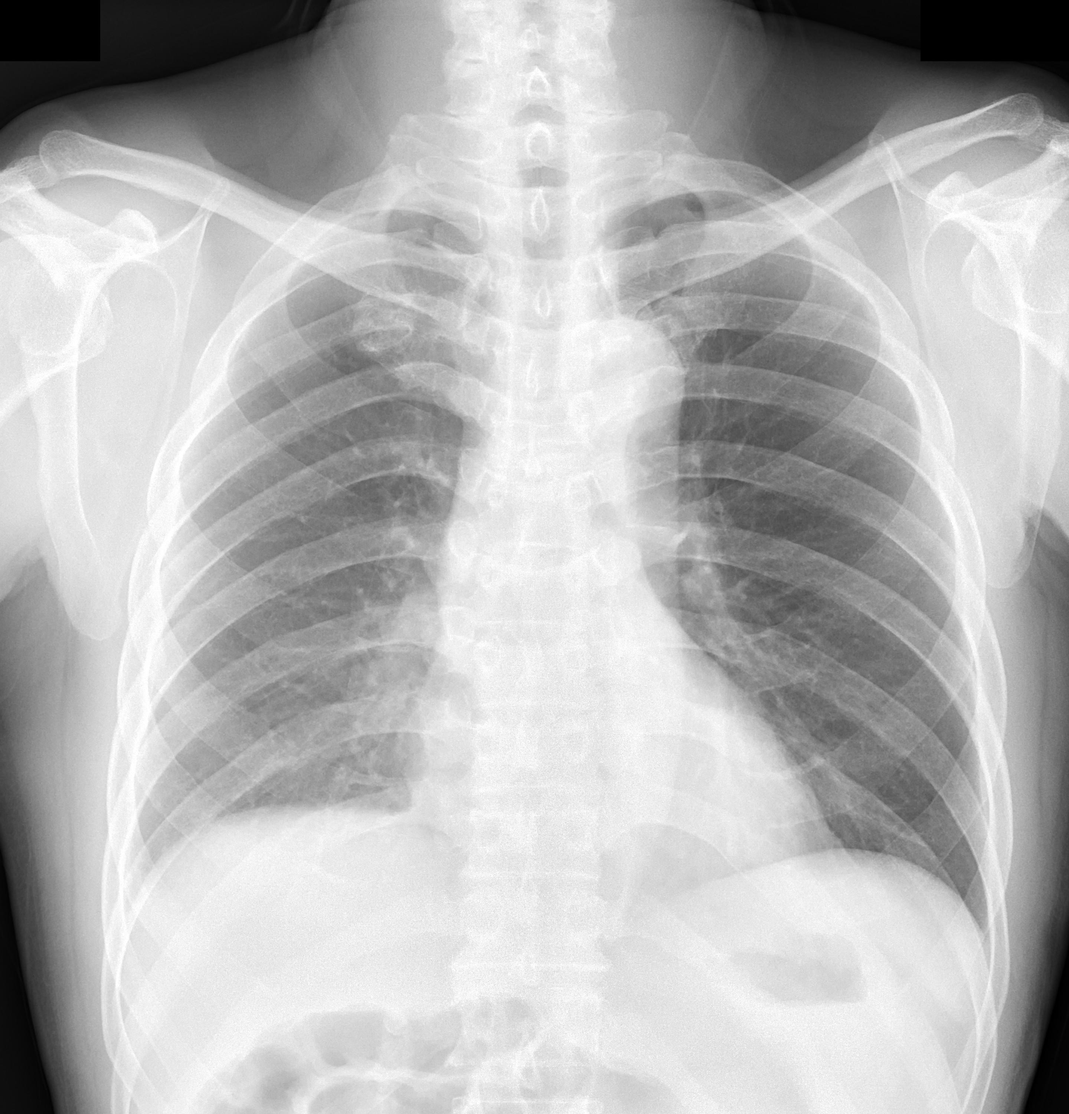Aortic enlargement: (550, 316, 685, 474)
